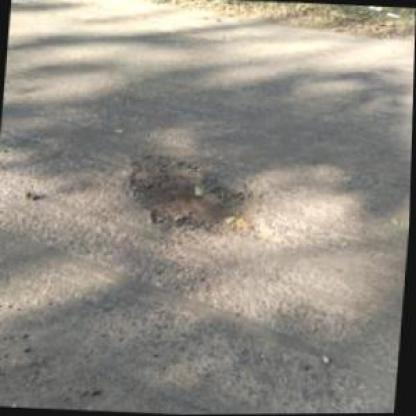pothole: (121, 150, 270, 240)
